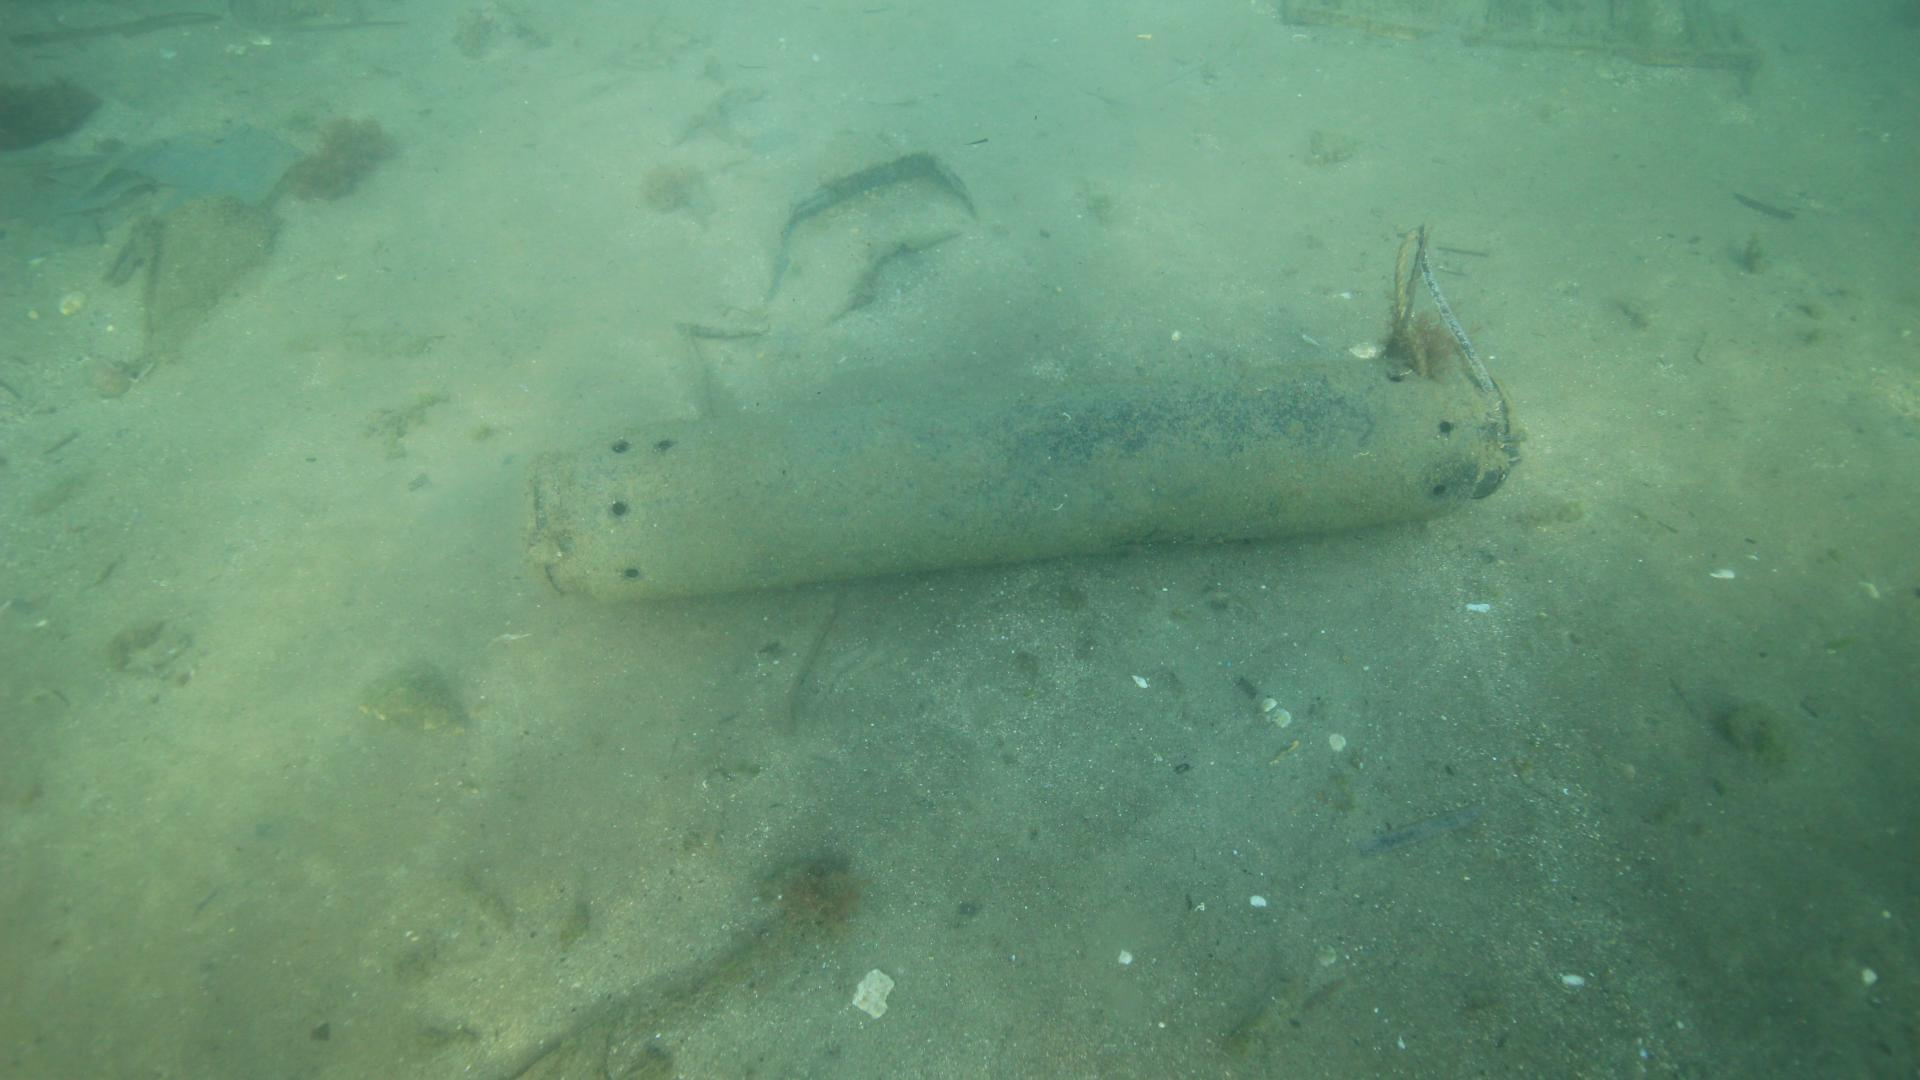eel fish trap: (518, 351, 1524, 609)
rope: (1390, 222, 1432, 380)
